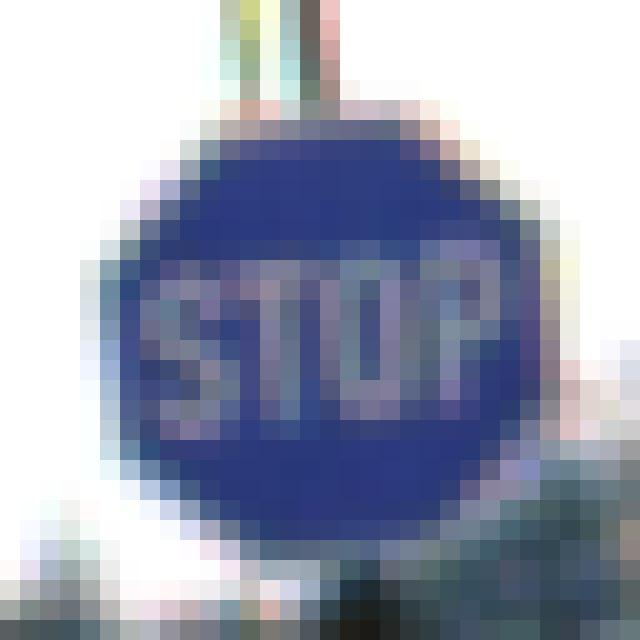STOP: (112, 126, 551, 549)
